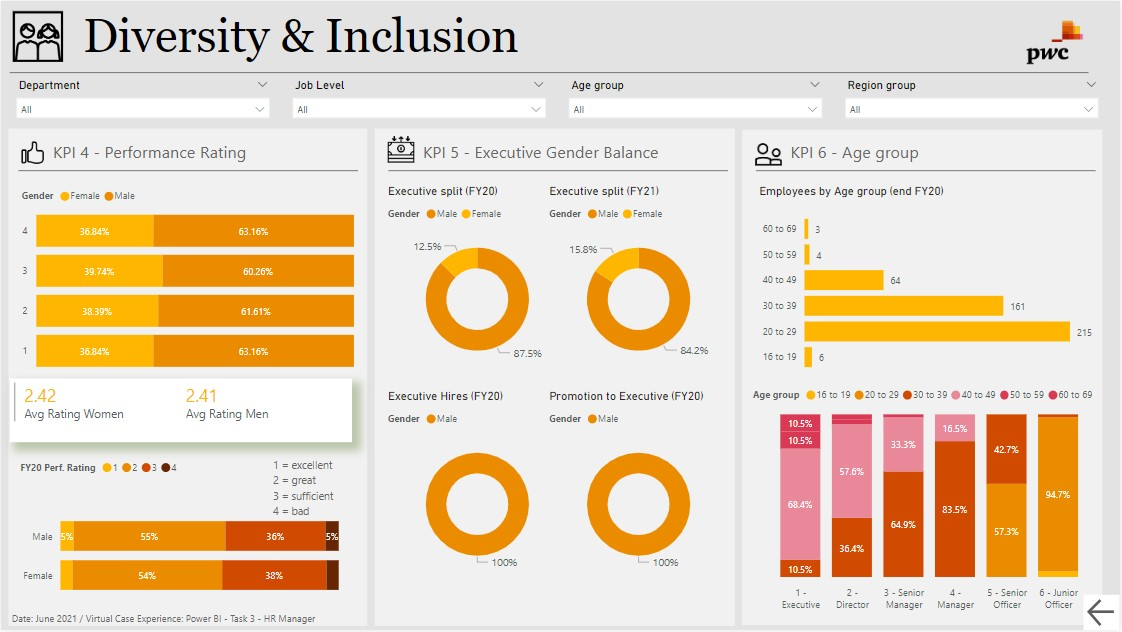

Layout of this report page (visuals, bound fields, positions):
{"tool":"powerbi","page":{"name":"HR Manager (2/2)","canvas":[1280,720],"ordinal":1},"visuals":[{"type":"basicShape","box":[3.9,139.9,418.6,579.7],"z":0},{"type":"slicer","fields":{"Values":["HR Manager.Job Level after FY20 promotions"]},"box":[322.5,83.9,310,55.9],"z":1000},{"type":"slicer","fields":{"Values":["HR Manager.Age group"]},"box":[638.2,83.9,310,55.9],"z":2000},{"type":"textbox","box":[88.7,4.8,1172.9,75.2],"z":3000},{"type":"basicShape","box":[0,60.8,1253,40.5],"z":4000},{"type":"basicShape","box":[422.2,139.6,420,579.7],"z":5000},{"type":"basicShape","box":[9.5,174.9,408,39.5],"z":6000},{"type":"textbox","box":[54.6,154.4,315.4,35.7],"z":7000},{"type":"multiRowCard","fields":{"Values":["HR Manager.Avg Rating Women","HR Manager.Avg Rating Men"]},"box":[10.1,431.1,390.9,72.6],"z":8000},{"type":"hundredPercentStackedBarChart","fields":{"Series":["HR Manager.FY20 Performance Rating"],"Category":["HR Manager.Gender"],"Y":["CountNonNull(HR Manager.Employee ID)"]},"box":[16.8,513.8,374.2,205.5],"z":9000},{"type":"image","box":[854.5,413.3,6.7,35.7],"z":10000},{"type":"image","box":[1129,0,151,94.5],"z":11000},{"type":"image","box":[8.7,0,67.5,81],"z":12000},{"type":"basicShape","box":[842.2,141.8,420,577.5],"z":13000},{"type":"image","box":[19,156.4,35.7,35.7],"z":14000},{"type":"slicer","fields":{"Values":["HR Manager.Last Department in FY20"]},"box":[6.8,83.9,310,55.9],"z":15000},{"type":"slicer","fields":{"Values":["HR Manager.Broad region group: nationality 1"]},"box":[954,83.9,310,55.9],"z":16000},{"type":"textbox","box":[477.9,154.4,315.4,35.7],"z":17000},{"type":"basicShape","box":[432.8,174.9,408,39.5],"z":18000},{"type":"textbox","box":[897.8,154.4,315.4,35.7],"z":19000},{"type":"basicShape","box":[852.7,174.9,408,39.5],"z":20000},{"type":"hundredPercentStackedBarChart","fields":{"Category":["HR Manager.FY20 Performance Rating"],"Series":["HR Manager.Gender"],"Y":["CountNonNull(HR Manager.Employee ID)"]},"box":[19,204.4,389.8,225.6],"z":21000},{"type":"textbox","box":[306,516,100.5,81.5],"z":22000},{"type":"donutChart","title":"Executive split (FY21)","fields":{"Category":["HR Manager.Gender"],"Y":["CountNonNull(HR Manager.Employee ID)"]},"box":[621.1,209.9,214.5,220],"z":23000},{"type":"donutChart","title":"Executive split (FY20)","fields":{"Category":["HR Manager.Gender"],"Y":["CountNonNull(HR Manager.Employee ID)"]},"box":[436.8,209.9,214.5,220],"z":24000},{"type":"donutChart","title":"Executive Hires (FY20)","fields":{"Category":["HR Manager.Gender"],"Y":["CountNonNull(HR Manager.Employee ID)"]},"box":[436.7,444.7,214.5,220],"z":25000},{"type":"donutChart","title":"Promotion to Executive (FY20)","fields":{"Category":["HR Manager.Gender"],"Y":["CountNonNull(HR Manager.Employee ID)"]},"box":[621,444.7,214.5,220],"z":26000},{"type":"image","box":[857.8,153,40.2,44.7],"z":27000},{"type":"clusteredBarChart","title":"Employees by Age group (end FY20)","fields":{"Category":["HR Manager.Age group"],"Y":["CountNonNull(HR Manager.Employee ID)"]},"box":[861.2,210,392,225.6],"z":28000},{"type":"hundredPercentStackedColumnChart","fields":{"Category":["HR Manager.Job Level after FY21 promotions"],"Series":["HR Manager.Age group"],"Y":["CountNonNull(HR Manager.Employee ID)"]},"box":[854.5,431.1,406.6,273.6],"z":29000},{"type":"image","box":[436.7,147.4,40.2,44.7],"z":30000},{"type":"actionButton","box":[1237.6,679.1,42.4,40.5],"z":31000},{"type":"textbox","box":[7.7,689.7,397.4,29.9],"z":32000}]}

Visuals, with their boxes in screenshot pixels (x1, y1, x2, y2), scaled from the page's 1280x720 canvas onto the 1122x632 screenshot:
basicShape: box(3, 123, 370, 631)
slicer - HR Manager.Job Level after FY20 promotions: box(283, 74, 554, 123)
slicer - HR Manager.Age group: box(559, 74, 831, 123)
textbox: box(78, 4, 1106, 70)
basicShape: box(0, 53, 1098, 89)
basicShape: box(370, 123, 738, 631)
basicShape: box(8, 154, 366, 188)
textbox: box(48, 136, 324, 167)
multiRowCard - HR Manager.Avg Rating Women x HR Manager.Avg Rating Men: box(9, 378, 352, 442)
hundredPercentStackedBarChart - HR Manager.FY20 Performance Rating x HR Manager.Gender: box(15, 451, 343, 631)
image: box(749, 363, 755, 394)
image: box(990, 0, 1121, 83)
image: box(8, 0, 67, 71)
basicShape: box(738, 124, 1106, 631)
image: box(17, 137, 48, 169)
slicer - HR Manager.Last Department in FY20: box(6, 74, 278, 123)
slicer - HR Manager.Broad region group: nationality 1: box(836, 74, 1108, 123)
textbox: box(419, 136, 695, 167)
basicShape: box(379, 154, 737, 188)
textbox: box(787, 136, 1063, 167)
basicShape: box(747, 154, 1105, 188)
hundredPercentStackedBarChart - HR Manager.FY20 Performance Rating x HR Manager.Gender: box(17, 179, 358, 377)
textbox: box(268, 453, 356, 524)
"Executive split (FY21)" donutChart: box(544, 184, 732, 377)
"Executive split (FY20)" donutChart: box(383, 184, 571, 377)
"Executive Hires (FY20)" donutChart: box(383, 390, 571, 583)
"Promotion to Executive (FY20)" donutChart: box(544, 390, 732, 583)
image: box(752, 134, 787, 174)
"Employees by Age group (end FY20)" clusteredBarChart: box(755, 184, 1099, 382)
hundredPercentStackedColumnChart - HR Manager.Job Level after FY21 promotions x HR Manager.Age group: box(749, 378, 1105, 619)
image: box(383, 129, 418, 169)
actionButton: box(1085, 596, 1121, 631)
textbox: box(7, 605, 355, 631)
